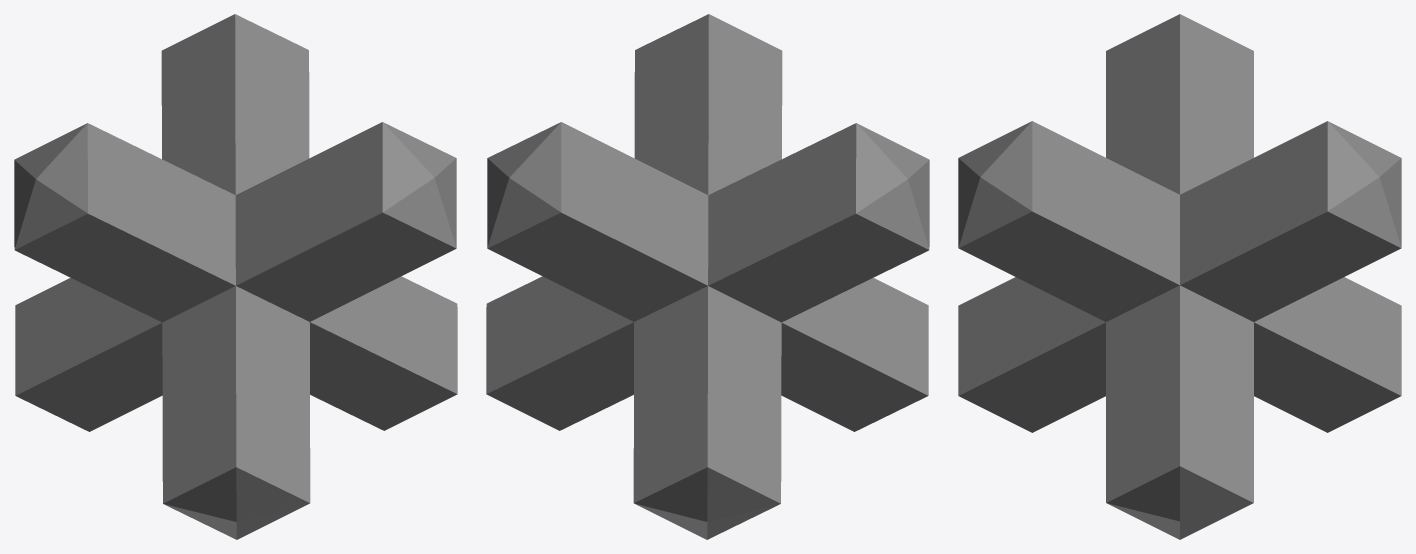
File: HedgeHog_AntiTank.fbx
The picture shows the model from 3 angles, left to right: view 1: azimuth 30°, elevation 25°; view 2: azimuth 150°, elevation 25°; view 3: azimuth 270°, elevation 25°; orthographic projection.
Parts seen in each view (by area): view 1: HedgeHog; view 2: HedgeHog; view 3: HedgeHog.
Part boxes in pixels (x1=…): HedgeHog: x1=14, y1=14, x2=457, y2=539; HedgeHog: x1=486, y1=14, x2=929, y2=539; HedgeHog: x1=958, y1=14, x2=1401, y2=539.
Bounding box in the file's own units: 98.14 × 80.98 × 84.85.
